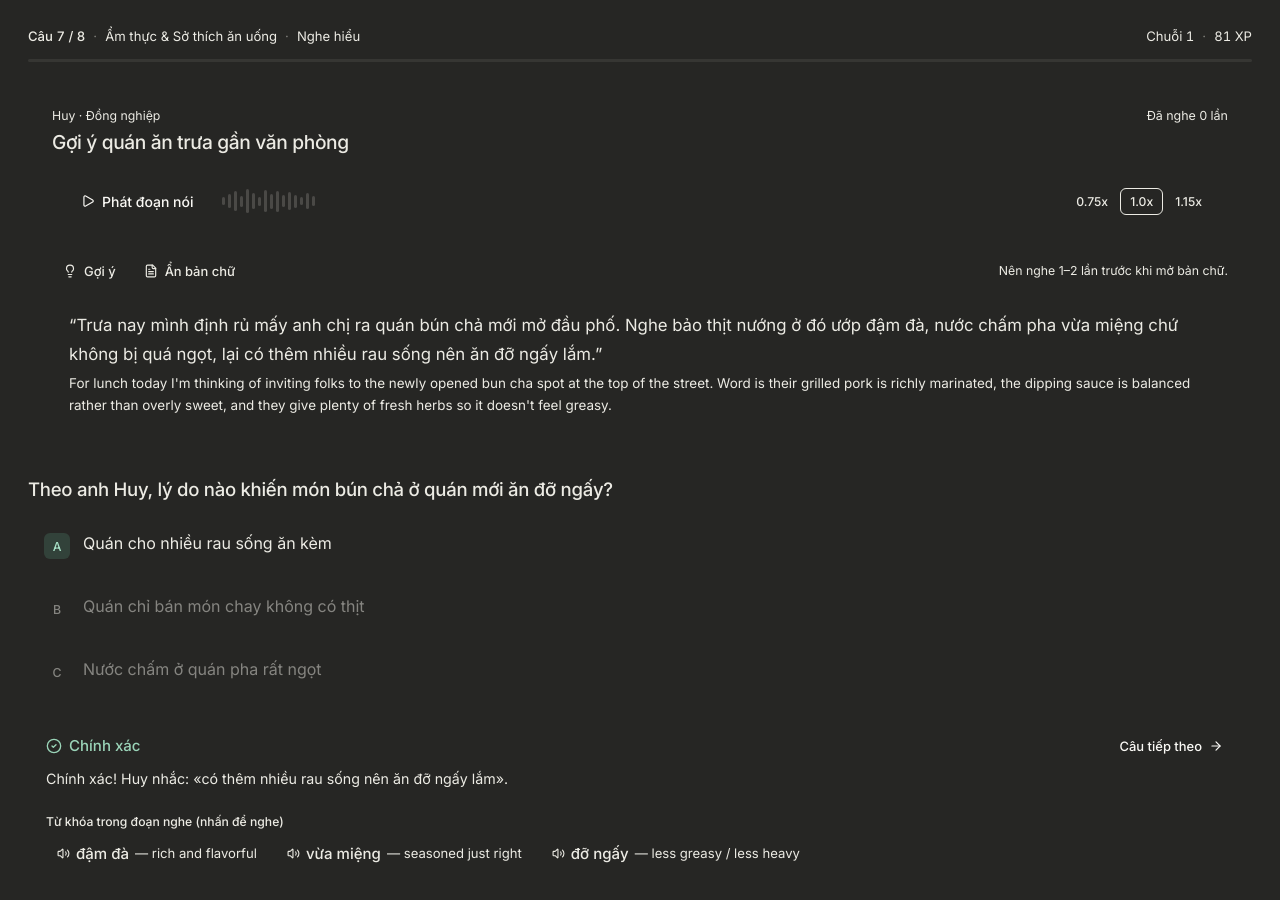
Test: ListeningGame › deals up to 8 balanced exercises when practicing all topics and avoids repeats on the next round
Earlier steps of the test are not shown.
Later steps or results of the test are not shown.
Click the button with test id "listening-next-btn". click: (1171, 746)
box: [1108,732,1234,760]
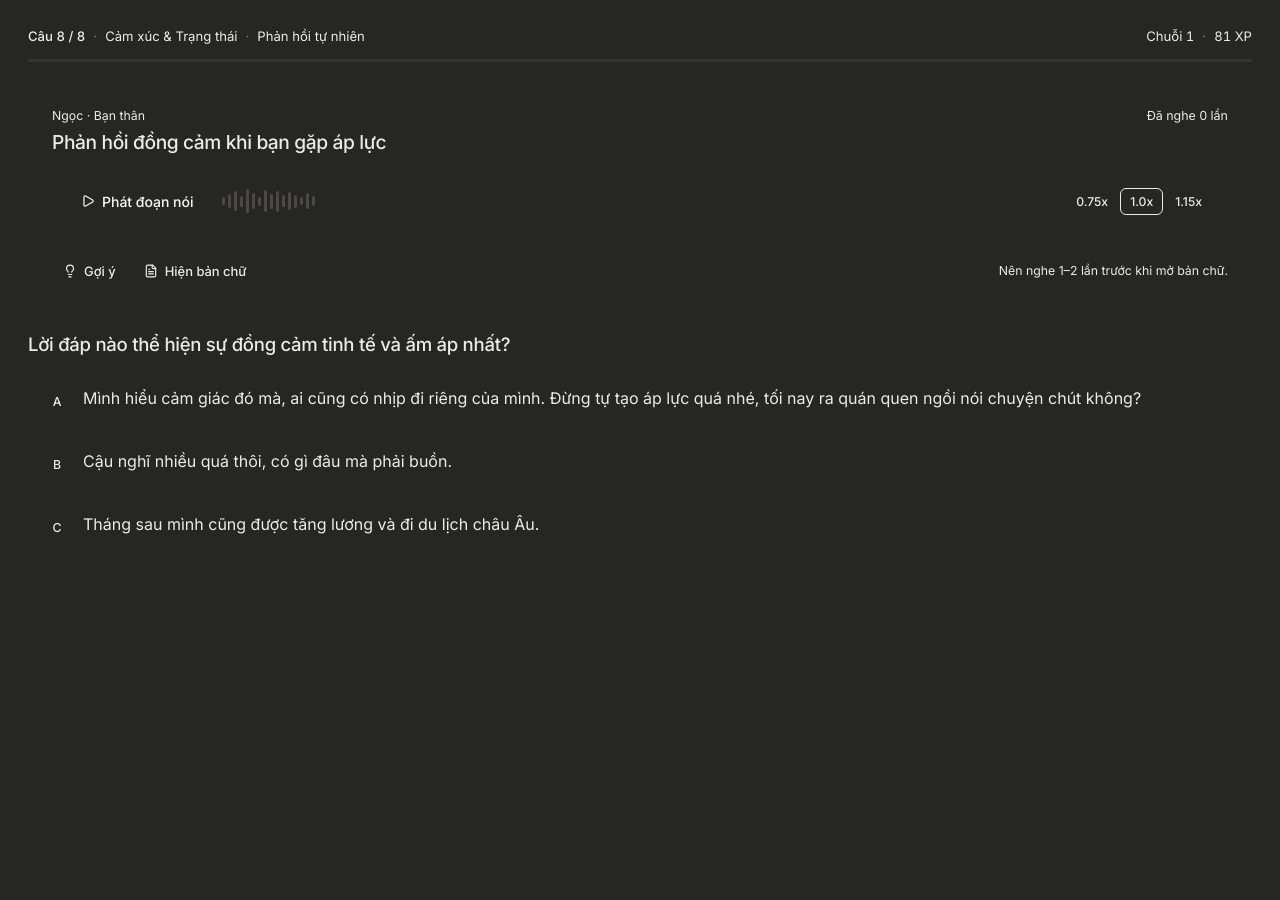
Click the button with test id "listening-option-a". click: (640, 400)
box: [28,373,1252,427]
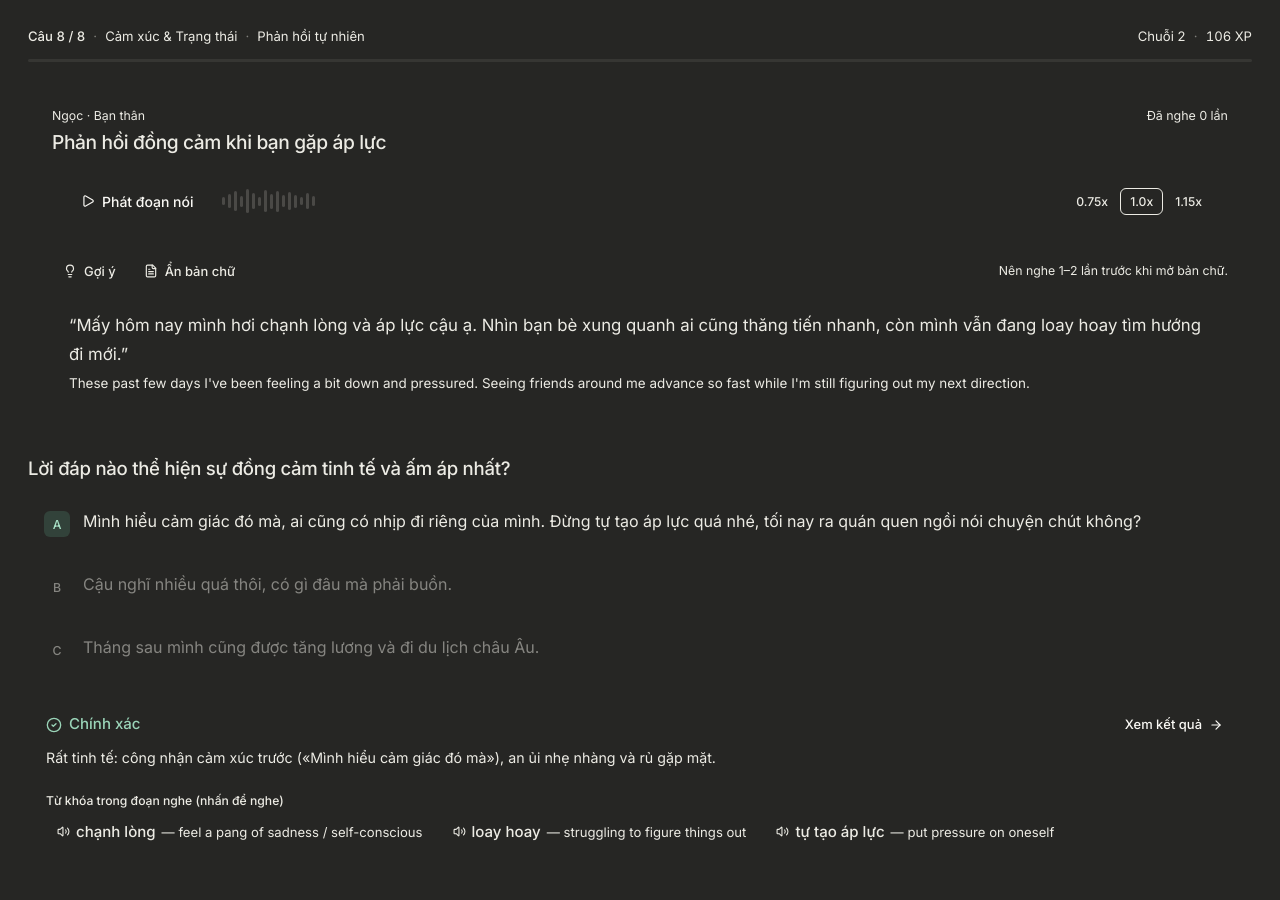
Click the button with test id "listening-next-btn". click: (1174, 724)
box: [1114,710,1234,739]
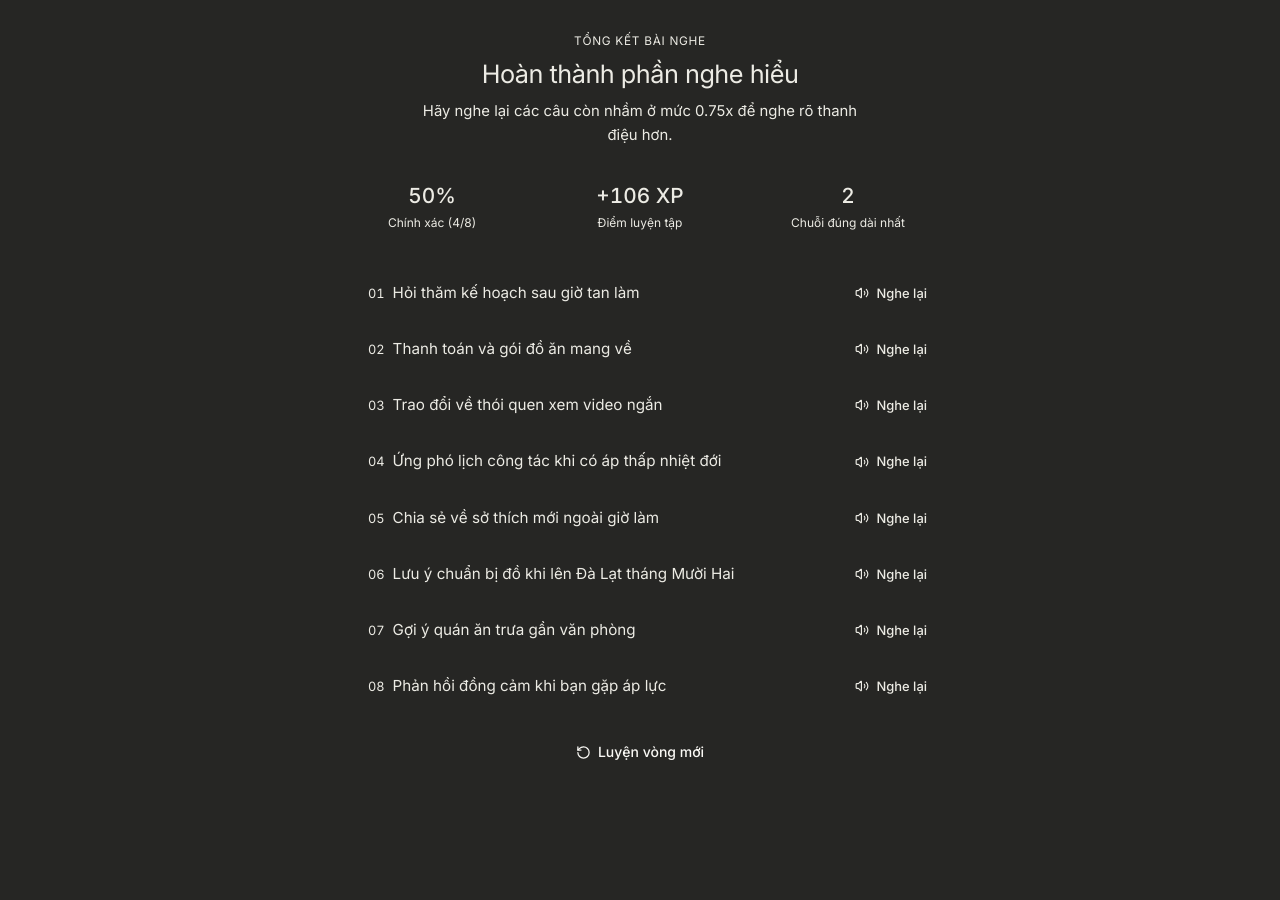
expect the element with test id "listening-summary" is shown: met, box [300,0,980,802]
